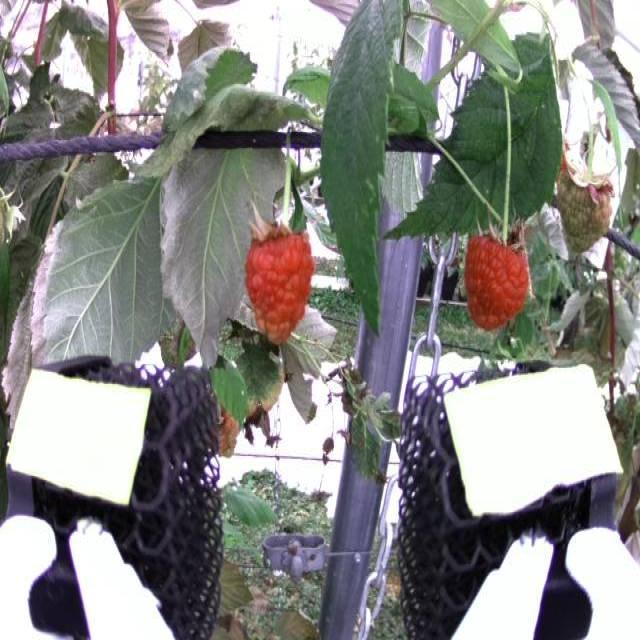Riped berries: (239, 221, 325, 348), (459, 228, 532, 330)
